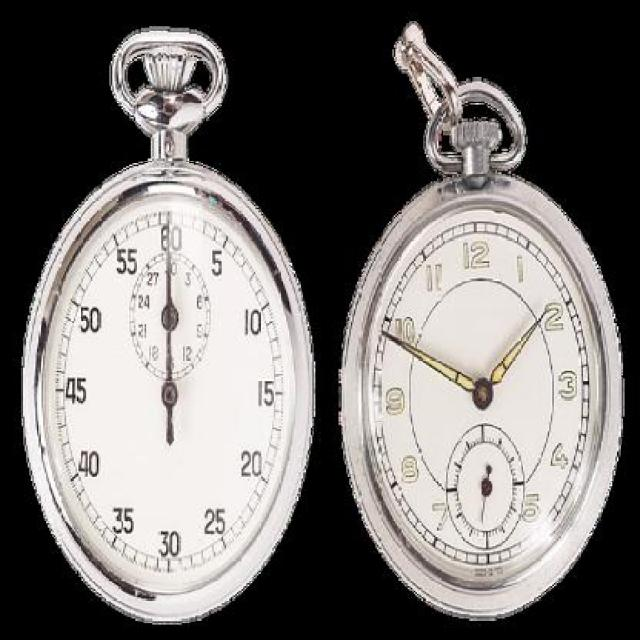clock: (51, 200, 291, 590), (362, 212, 602, 583)
